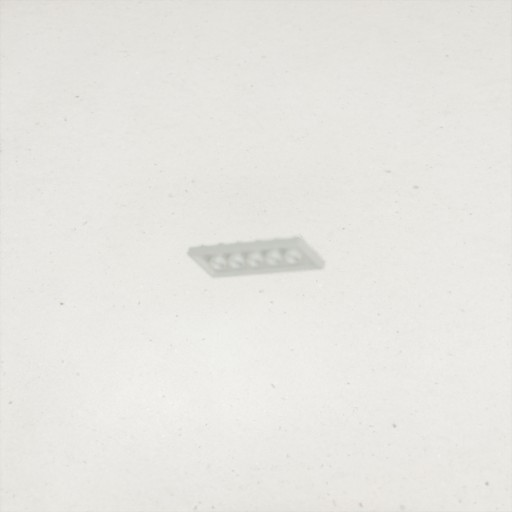lego: (186, 235, 327, 279)
